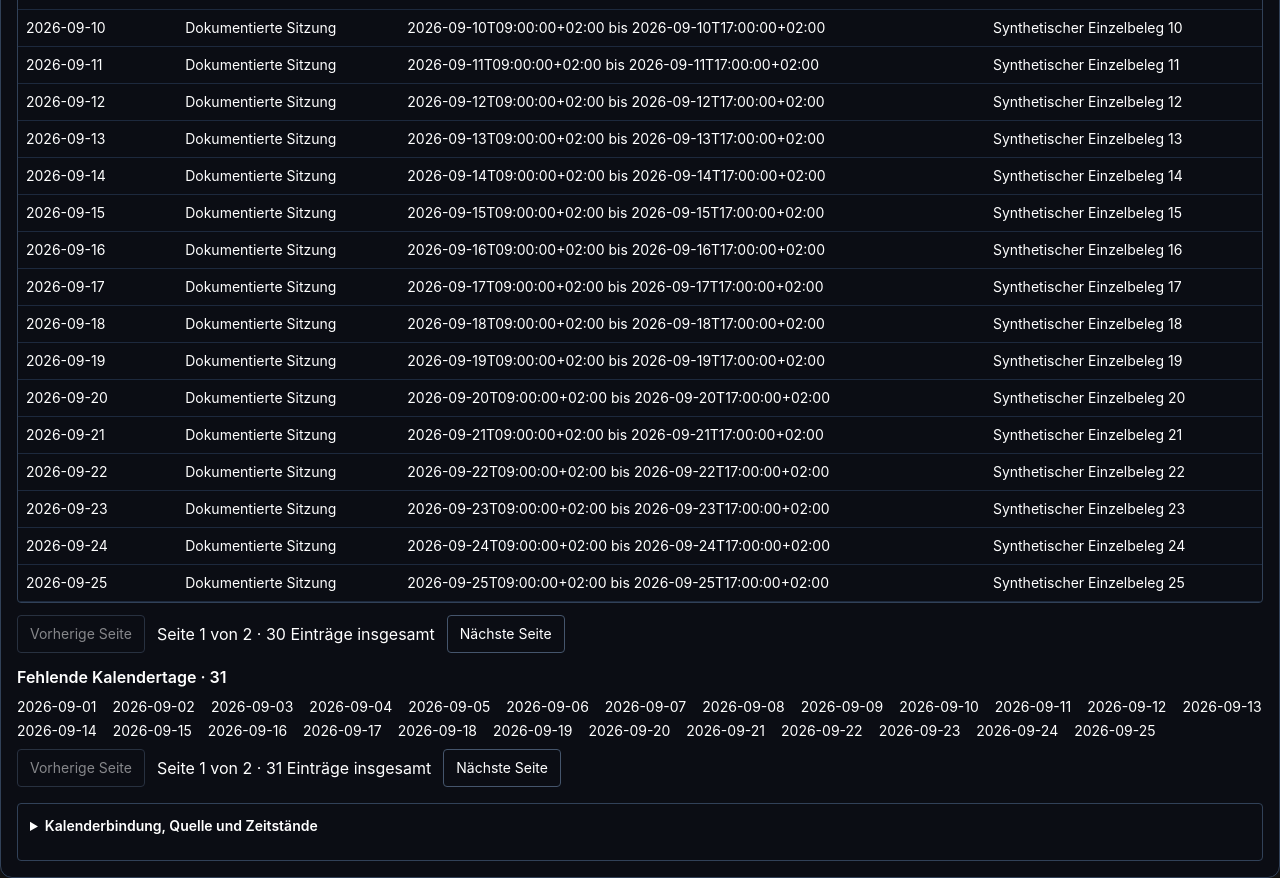
Scenario: paginates all supplied day and missing-date evidence without further reads or changing the total
(page scrolled)
Click the 1st button "Nächste Seite".
click(506, 634)  # box [447,615,565,653]
(page scrolled)
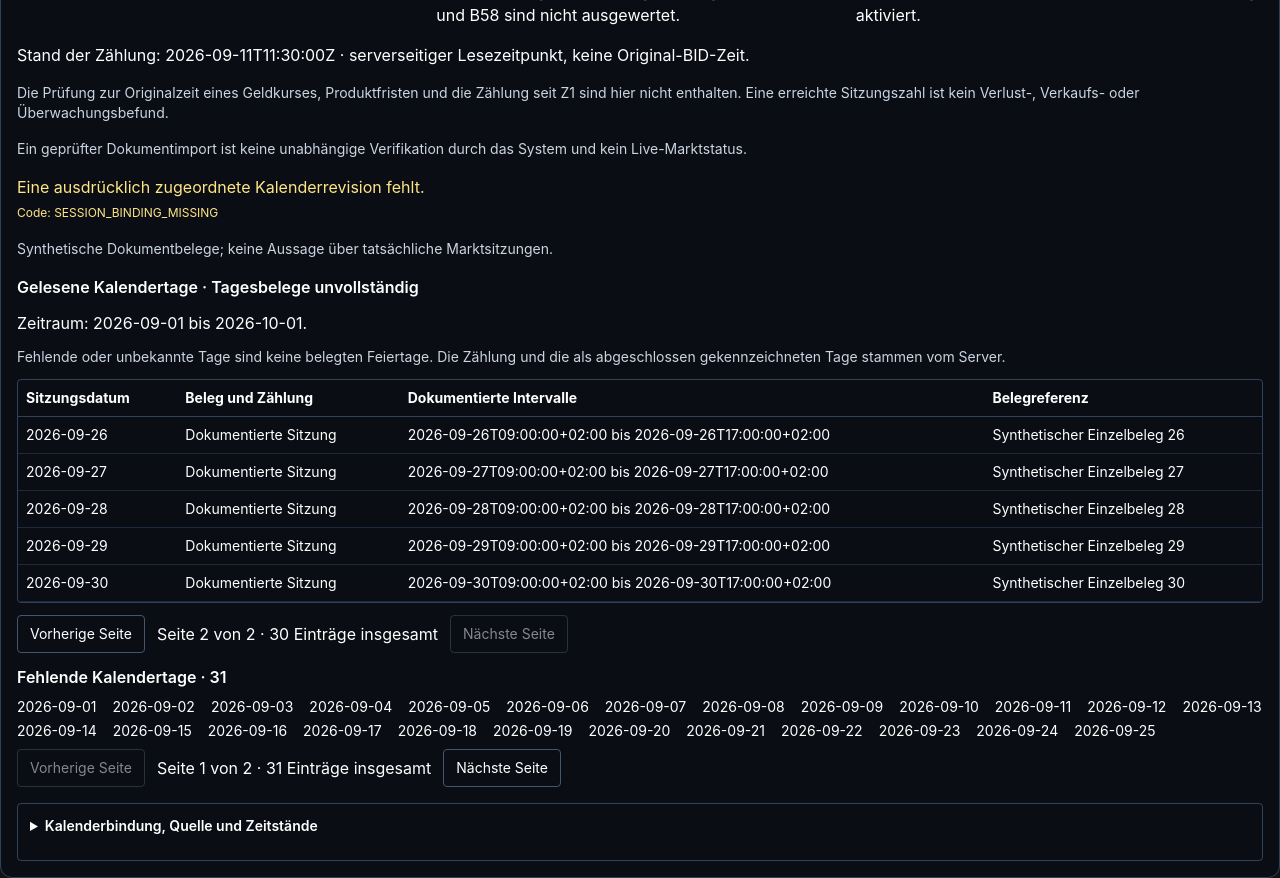
Check: the number of rows is 6, box [18,380,1262,416]; [18,416,1262,454]; [18,454,1262,490]; [18,490,1262,528]; [18,528,1262,564]; [18,564,1262,602]
Check: the text "Synthetischer Einzelbeleg 30" is shown, box [984,564,1262,602]
Check: the text "Seite 2 von 2 · 30 Einträge insgesamt" is shown, box [157,622,438,646]
Click the 1st button "Vorherige Seite".
click(81, 634)  # box [17,615,145,653]
(page scrolled)
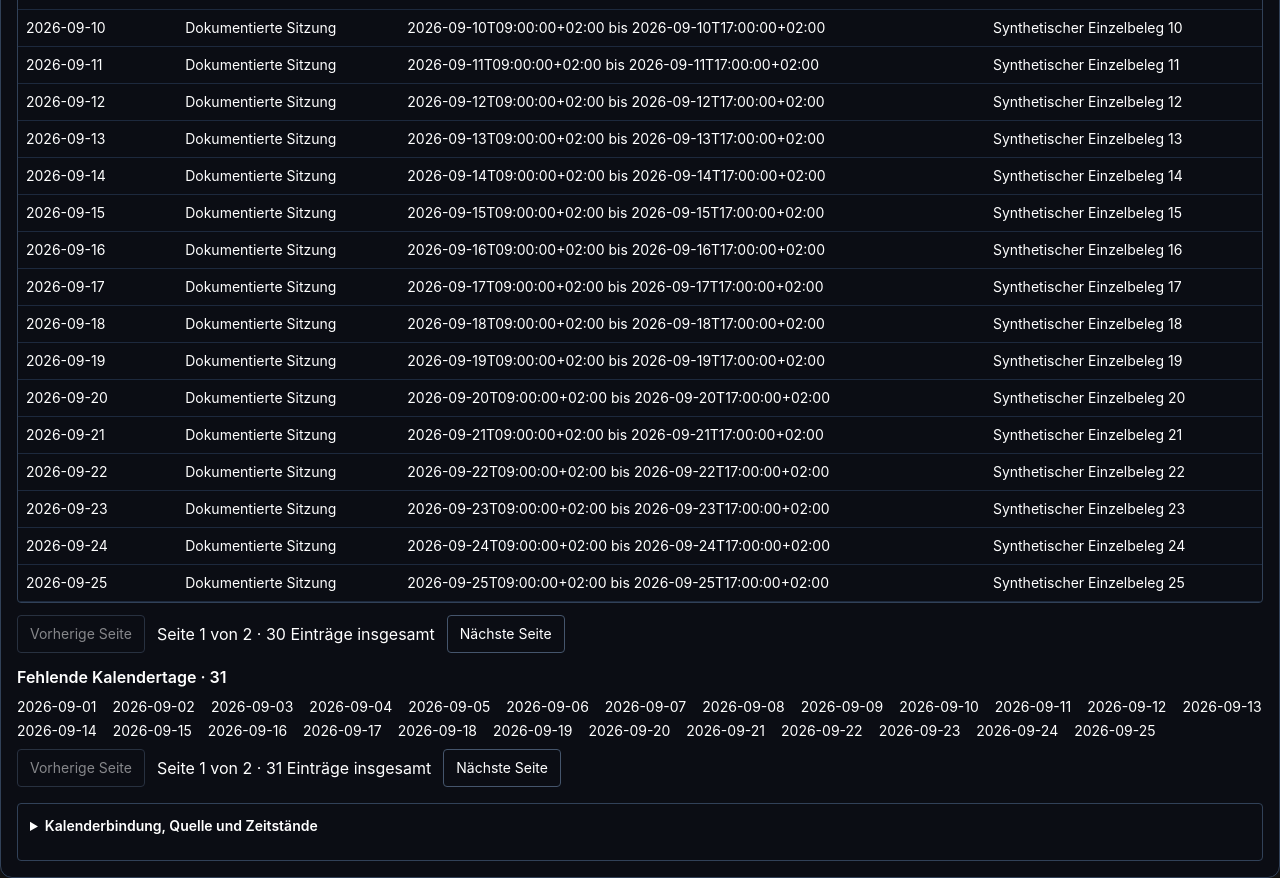
Click the button "Nächste Seite" below "Fehlende Kalendertage ·".
click(502, 768)  # box [443,749,561,787]
(page scrolled)
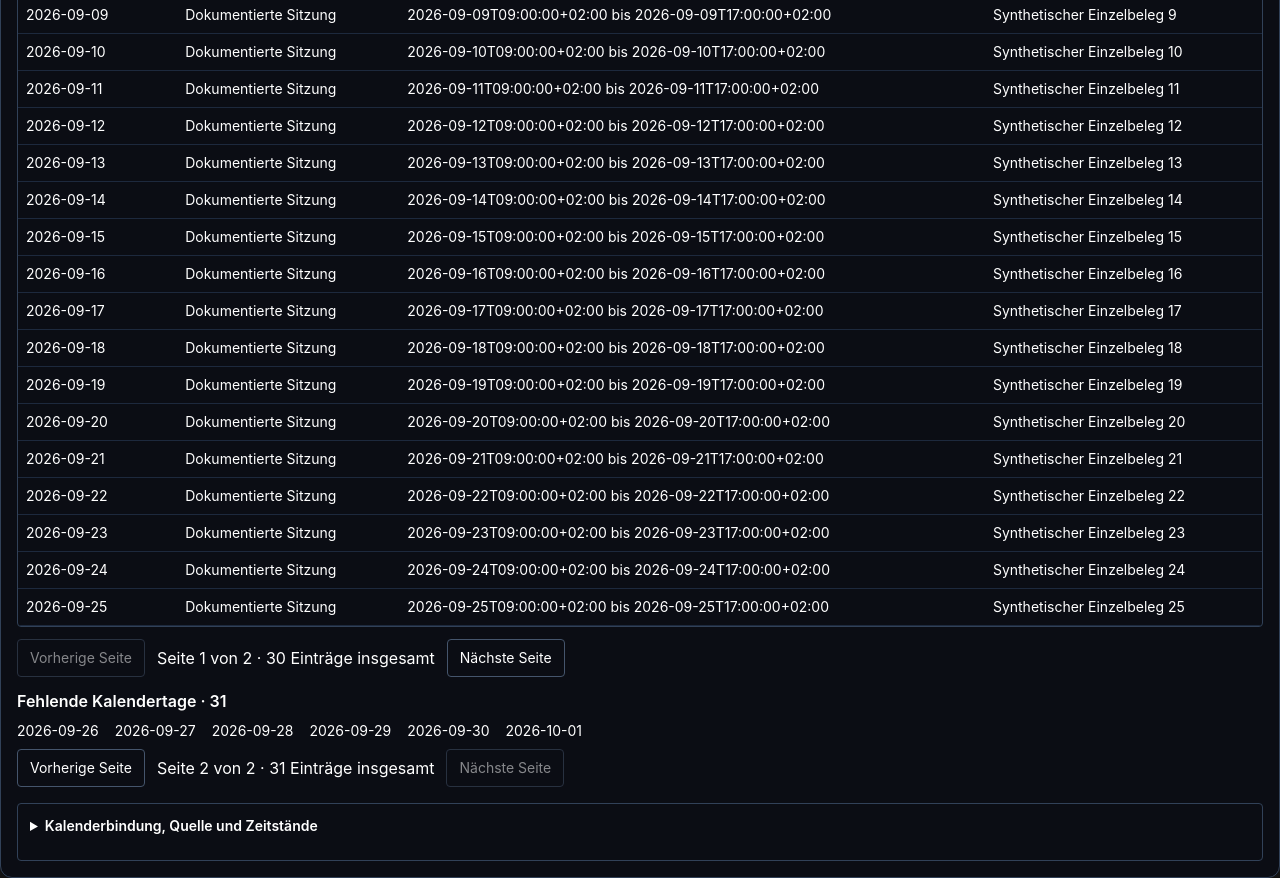
Check: the text "2026-10-01" is shown, box [506,722,582,739]
Check: the text "Seite 2 von 2 · 31 Einträge insgesamt" is shown, box [157,756,434,780]
